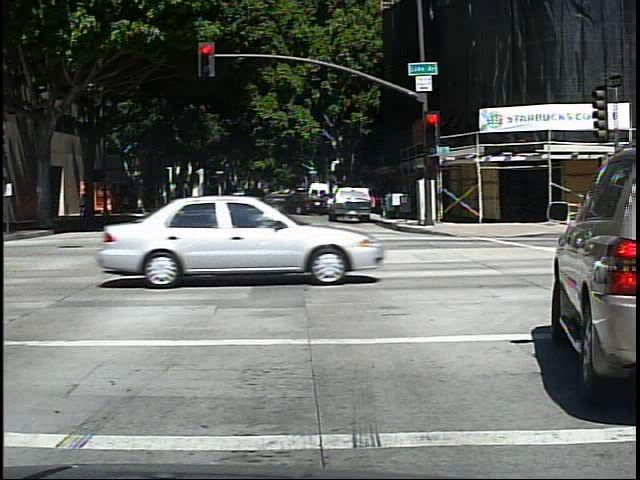person: (73, 186, 90, 220)
